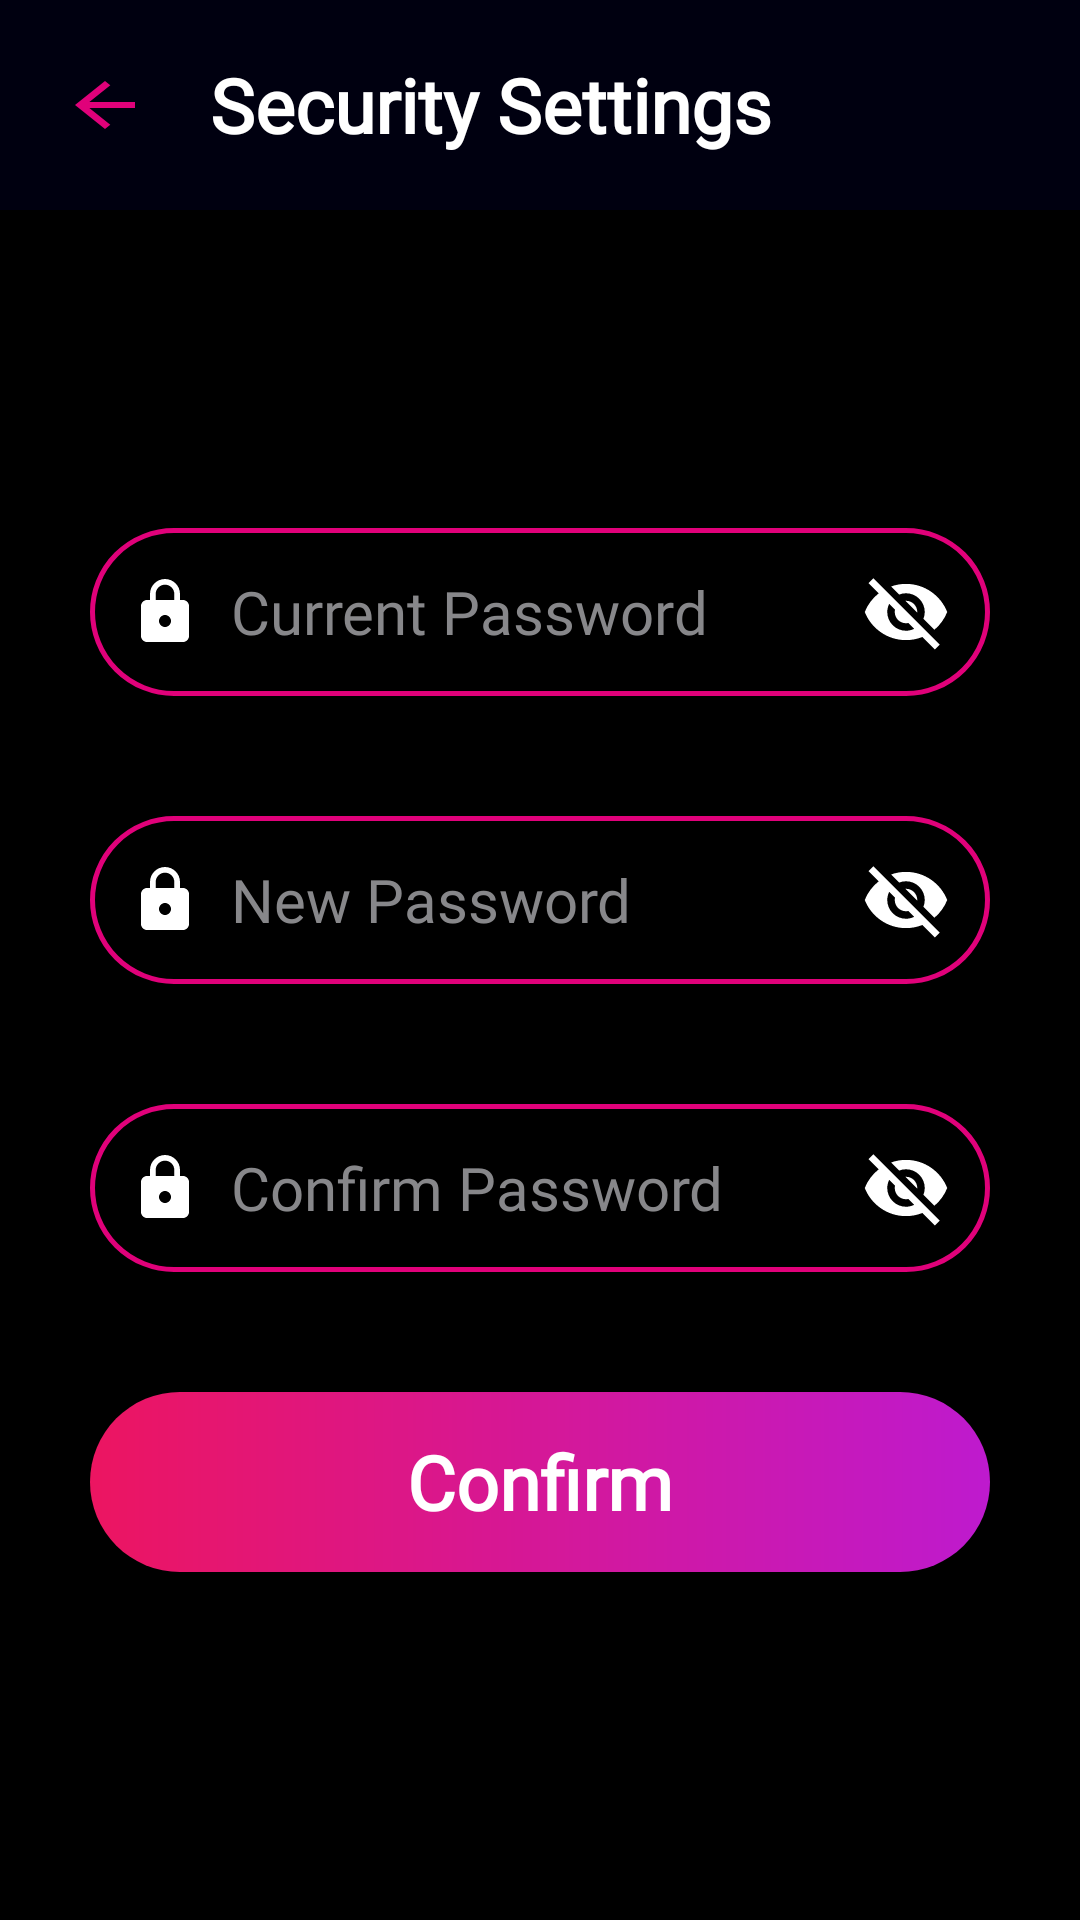

Named icons in this screenshot (1080w x 1920h) and their centers, point (x, y):
arrow back: point (105, 105)
